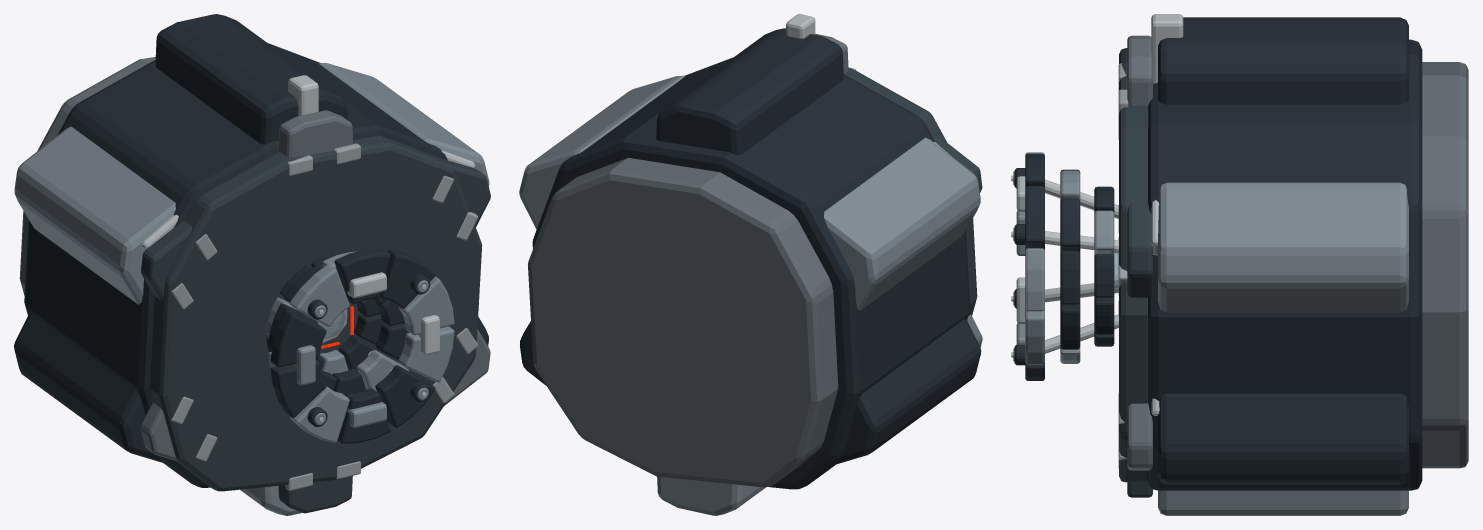
Rendered from orbit-protect-ultra.glb.
3 renders of one model, left to right at view 1: azimuth 30°, elevation 25°; view 2: azimuth 150°, elevation 25°; view 3: azimuth 270°, elevation 25°, orthographic. The views are drawn at different scales.
Visible parts, largest first — view 1: Protect_FrontArmourBed, Protect_SolidCitadelCore, Protect_ShieldBastion_02, Protect_ShieldBastion_01, Protect_ShieldBastion_03, Protect_ShieldBastion_00, Protect_ShieldBastionFace_01, Protect_LockCollar_0_04, Protect_ShieldBastionFace_02, Protect_LockCollar_0_03, Protect_LockCollar_0_08, Protect_ShieldBastionFace_04 (+22 smaller); view 2: Protect_RearPressureHull, Protect_SolidCitadelCore, Protect_ShieldBastion_02, Protect_ShieldBastion_01, Protect_ShieldBastion_03, Protect_ShieldBastion_00, Protect_ShieldBastion_04, Protect_FrontArmourBed, Protect_BastionCrown_01, Protect_ShieldBastion_05; view 3: Protect_SolidCitadelCore, Protect_ShieldBastion_00, Protect_ShieldBastion_05, Protect_ShieldBastion_01, Protect_RearPressureHull, Protect_FrontArmourBed, Protect_ShieldBastion_04, Protect_ShieldBastionFace_00, Protect_ShieldBastionFace_01, Protect_ShieldBastionFace_05, Protect_LockCollar_0_00, Protect_LockCollar_0_01 (+12 smaller).
Boxes of the visible parts, x1=… form: Protect_FrontArmourBed: x1=149, y1=135, x2=482, y2=491; Protect_SolidCitadelCore: x1=24, y1=43, x2=447, y2=487; Protect_ShieldBastion_02: x1=14, y1=126, x2=175, y2=304; Protect_ShieldBastion_01: x1=155, y1=14, x2=347, y2=144; Protect_ShieldBastion_03: x1=14, y1=313, x2=164, y2=463; Protect_ShieldBastion_00: x1=319, y1=63, x2=489, y2=186; Protect_ShieldBastionFace_01: x1=278, y1=110, x2=353, y2=157; Protect_LockCollar_0_04: x1=270, y1=309, x2=326, y2=367; Protect_ShieldBastionFace_02: x1=141, y1=220, x2=192, y2=300; Protect_LockCollar_0_03: x1=289, y1=264, x2=349, y2=326; Protect_LockCollar_0_08: x1=375, y1=365, x2=435, y2=427; Protect_ShieldBastionFace_04: x1=278, y1=476, x2=352, y2=513; Protect_RearPressureHull: x1=528, y1=157, x2=838, y2=487; Protect_SolidCitadelCore: x1=532, y1=57, x2=969, y2=489; Protect_ShieldBastion_02: x1=824, y1=137, x2=980, y2=310; Protect_ShieldBastion_01: x1=656, y1=28, x2=843, y2=154; Protect_ShieldBastion_03: x1=835, y1=319, x2=981, y2=464; Protect_ShieldBastion_00: x1=519, y1=75, x2=684, y2=229; Protect_ShieldBastion_04: x1=657, y1=476, x2=765, y2=515; Protect_FrontArmourBed: x1=844, y1=68, x2=977, y2=315; Protect_BastionCrown_01: x1=786, y1=14, x2=815, y2=38; Protect_ShieldBastion_05: x1=520, y1=321, x2=546, y2=385; Protect_SolidCitadelCore: x1=1147, y1=39, x2=1422, y2=490; Protect_ShieldBastion_00: x1=1158, y1=182, x2=1408, y2=312; Protect_ShieldBastion_05: x1=1158, y1=393, x2=1408, y2=484; Protect_ShieldBastion_01: x1=1158, y1=17, x2=1408, y2=104; Protect_RearPressureHull: x1=1422, y1=62, x2=1468, y2=468; Protect_FrontArmourBed: x1=1119, y1=48, x2=1148, y2=482; Protect_ShieldBastion_04: x1=1158, y1=490, x2=1408, y2=515; Protect_ShieldBastionFace_00: x1=1127, y1=202, x2=1152, y2=297; Protect_ShieldBastionFace_01: x1=1127, y1=35, x2=1152, y2=105; Protect_ShieldBastionFace_05: x1=1127, y1=403, x2=1152, y2=470; Protect_LockCollar_0_00: x1=1025, y1=248, x2=1044, y2=311; Protect_LockCollar_0_01: x1=1025, y1=186, x2=1044, y2=250.
Size of the model in its own units: 7.72 by 8.64 by 7.41.
